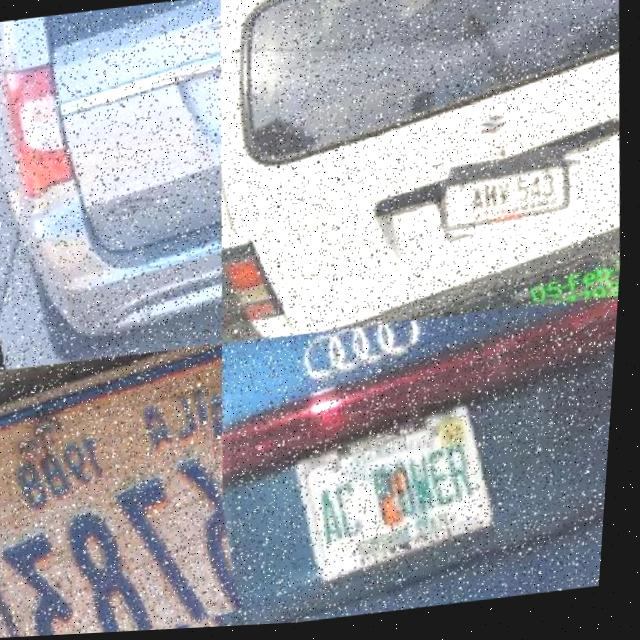LicensePlate: (0, 395, 253, 640), (298, 404, 503, 589), (439, 149, 587, 255)
